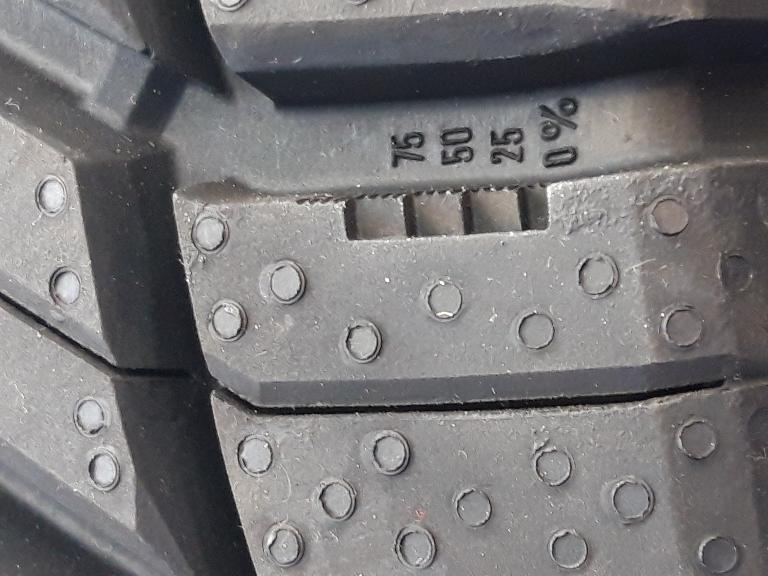temoin:100: (286, 175, 560, 252)
